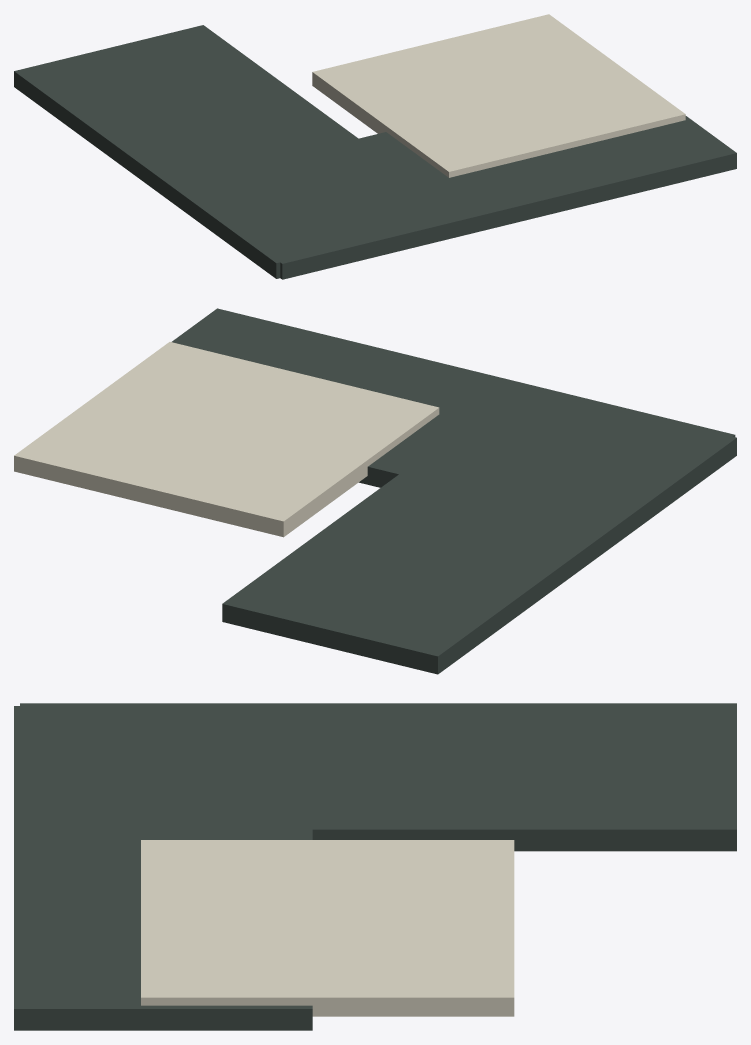
File: road_corner.glb
The picture shows the model from 3 angles, top to bottom: view 1: azimuth 30°, elevation 25°; view 2: azimuth 150°, elevation 25°; view 3: azimuth 270°, elevation 25°; orthographic projection. The views are drawn at different scales.
Parts seen in each view (by area): view 1: road_z, road_x, corner_sidewalk; view 2: road_z, corner_sidewalk, road_x; view 3: road_z, road_x, corner_sidewalk.
Part boxes in pixels (bbox=[...]): road_z: bbox=[14, 25, 464, 278]; road_x: bbox=[173, 116, 736, 279]; corner_sidewalk: bbox=[312, 14, 685, 177]; road_z: bbox=[222, 386, 736, 674]; corner_sidewalk: bbox=[14, 342, 439, 537]; road_x: bbox=[172, 308, 735, 523]; road_z: bbox=[20, 703, 736, 851]; road_x: bbox=[14, 706, 312, 1030]; corner_sidewalk: bbox=[141, 840, 514, 1016].
Bounding box in the file's own units: 2.42 × 0.11 × 2.42.
